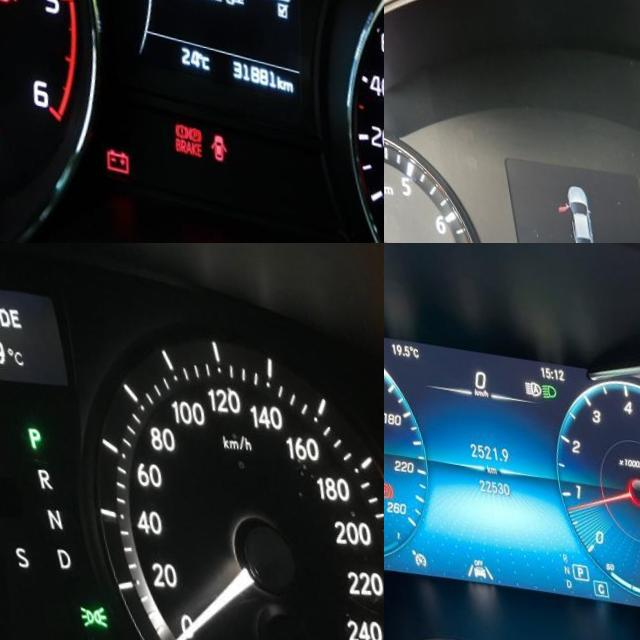Doors: (192, 120, 214, 151)
LaneCenteringOff: (451, 551, 479, 569)
Low beam: (532, 368, 549, 386)
SideLamp: (62, 594, 94, 624)
